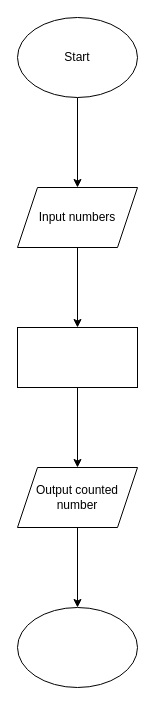
Some shapes in this 155 by 705 pixel diagram are drawn without their labels. Here are the shapes that lost their labels. From the top down, the box of each, then its label:
(16, 326, 138, 388): Count number
(16, 606, 138, 688): End
